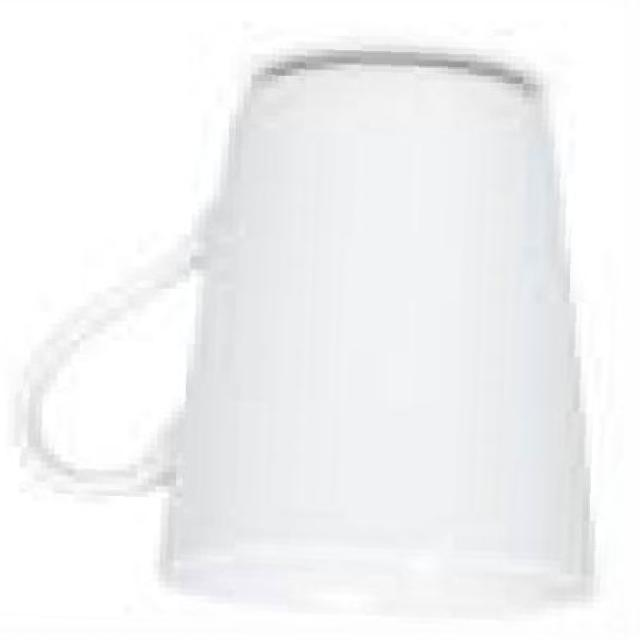cup: (0, 25, 633, 637)
